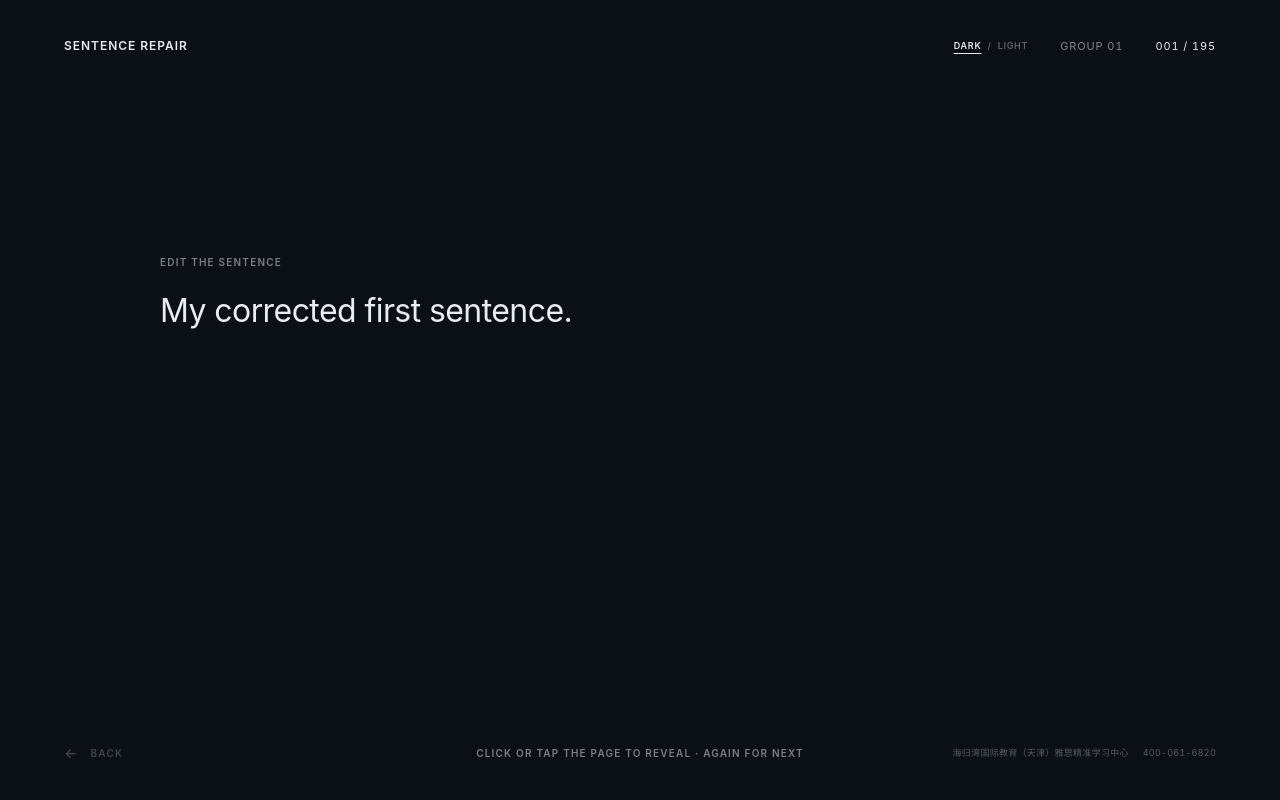
Scenario: sentence practice flow › moves back through revealed sentences and keeps earlier edits
Press Enter in the field named "Sentence to correct", box left=160, top=292, right=572, bottom=330
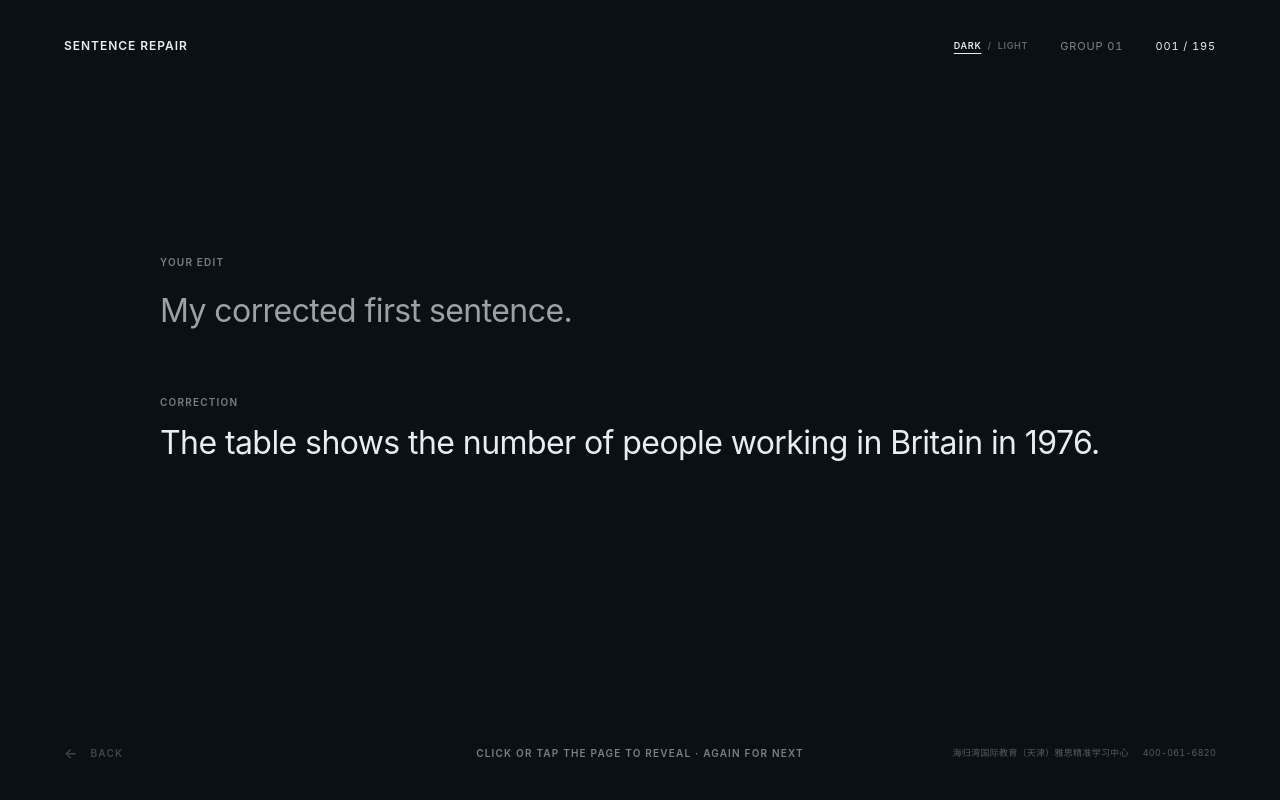
Press Enter in the field named "Sentence to correct", box left=160, top=292, right=572, bottom=330
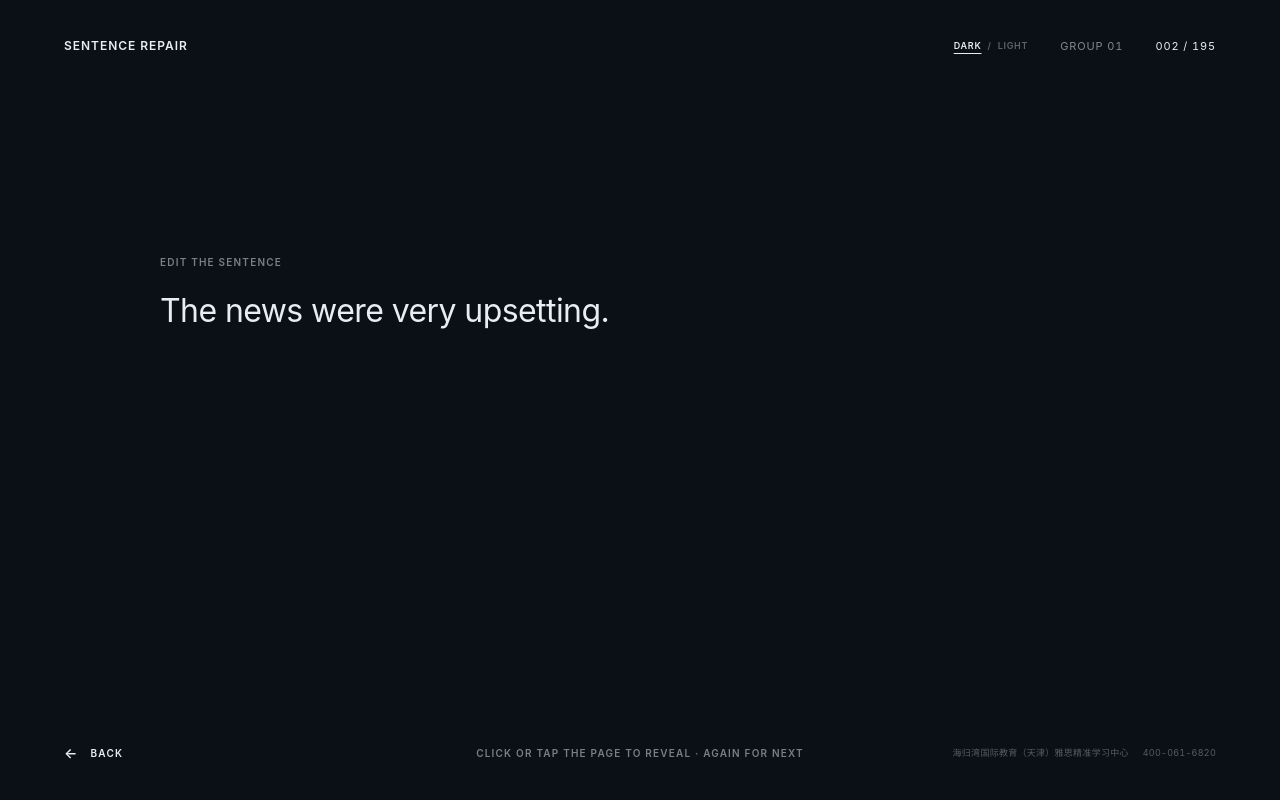
Press Enter in the field named "Sentence to correct", box left=160, top=292, right=609, bottom=330
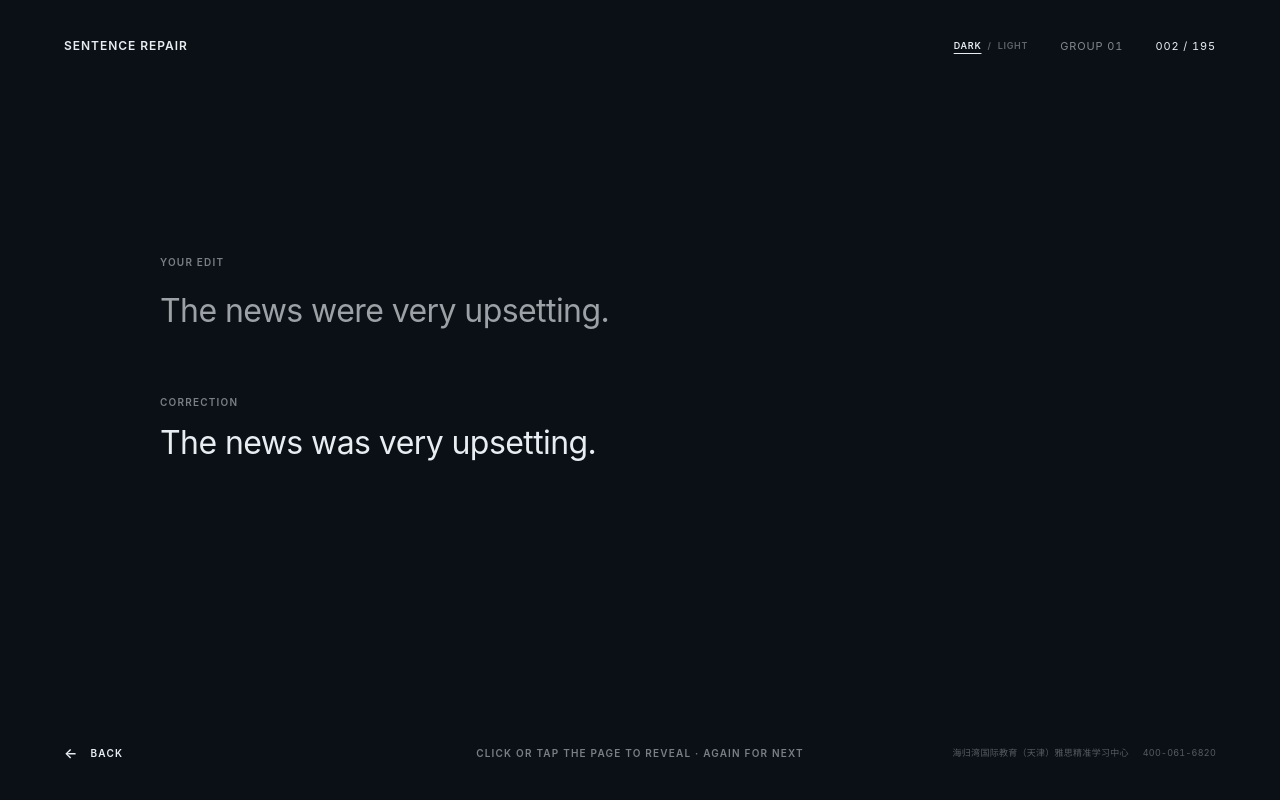
Press Enter in the field named "Sentence to correct", box left=160, top=292, right=609, bottom=330
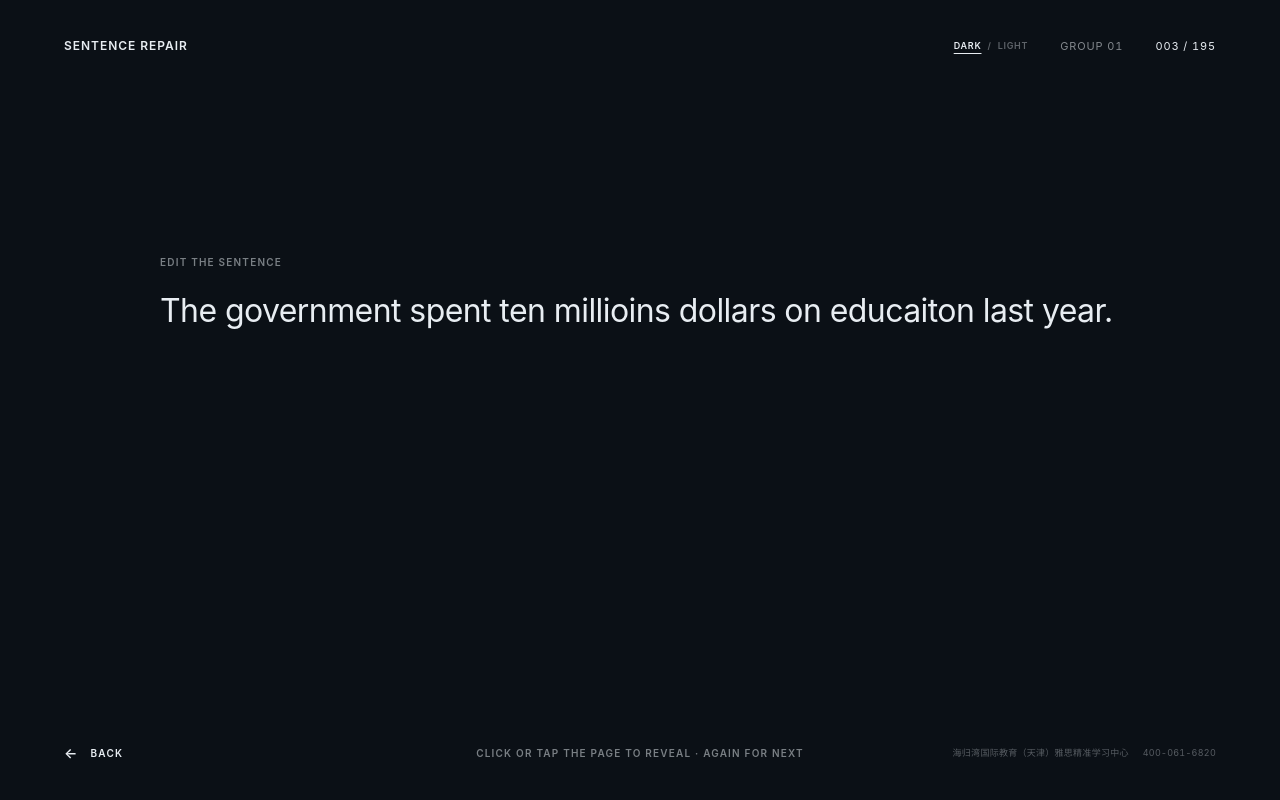
Now the text "003 / 195" is shown, box left=1155, top=38, right=1216, bottom=52
Click the button with aria-label "Back to previous sentence": click(94, 753) left=64, top=738, right=123, bottom=768
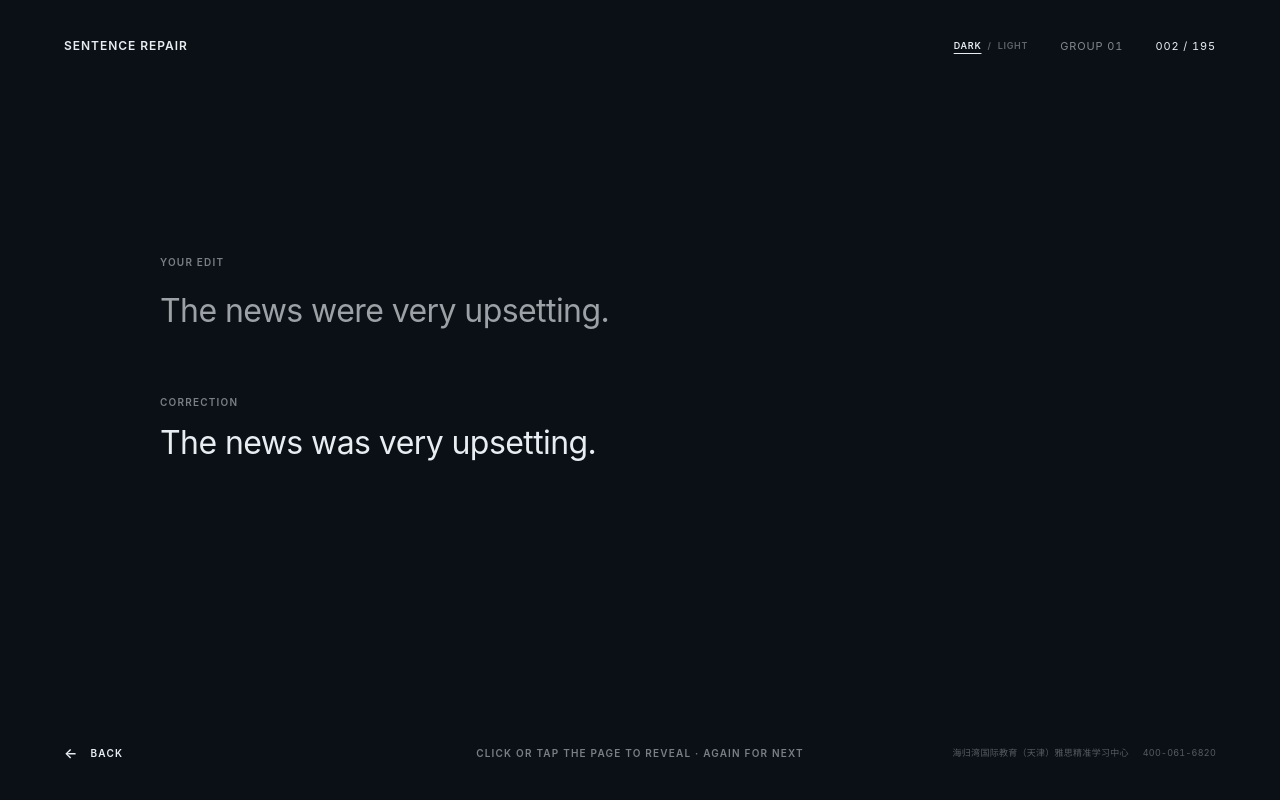
Now the text "002 / 195" is shown, box left=1155, top=38, right=1216, bottom=52
Now the text "The news was very upsetting." is shown, box left=160, top=423, right=596, bottom=462
Click the button with aria-label "Back to previous sentence": click(94, 753) left=64, top=738, right=123, bottom=768
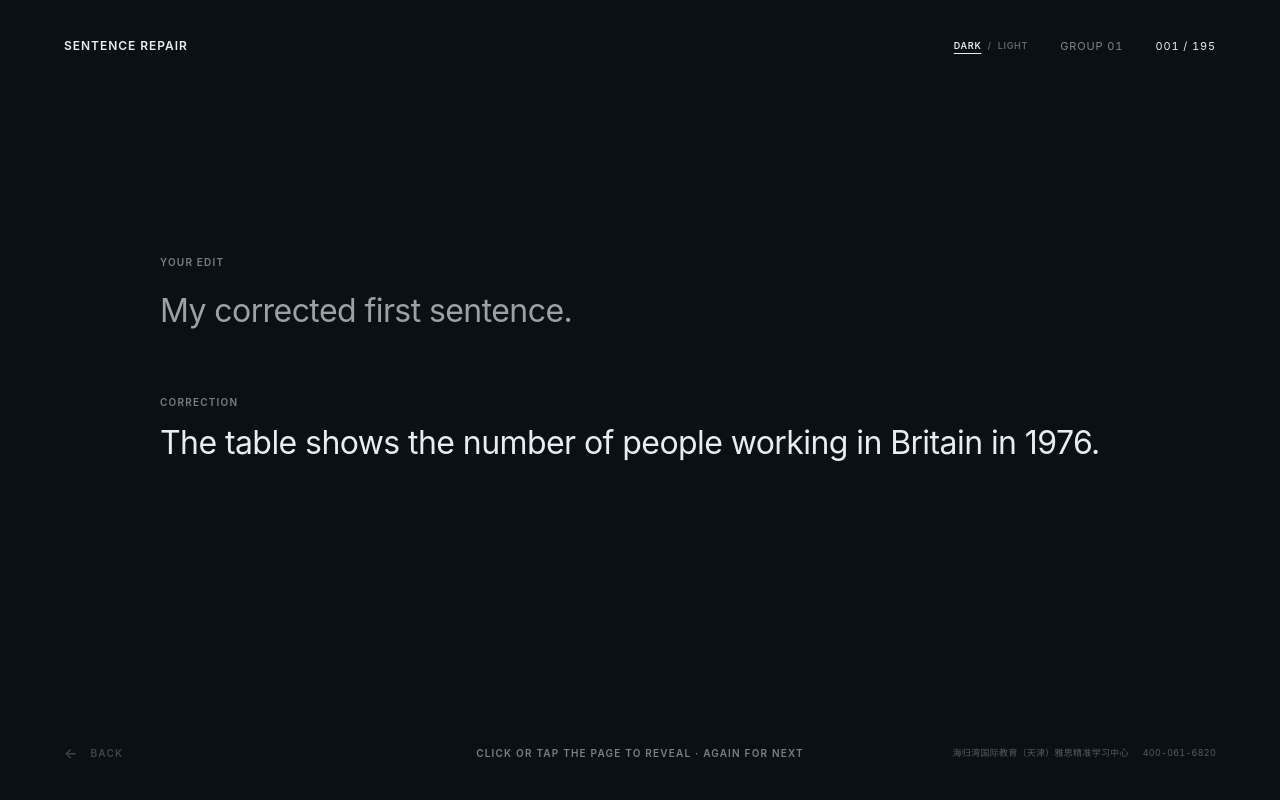
Now the text "001 / 195" is shown, box left=1155, top=38, right=1216, bottom=52
Now the field "My corrected first sentence." is shown, box left=160, top=292, right=572, bottom=330
Now the button with aria-label "Back to previous sentence" is disabled, box left=64, top=738, right=123, bottom=768
